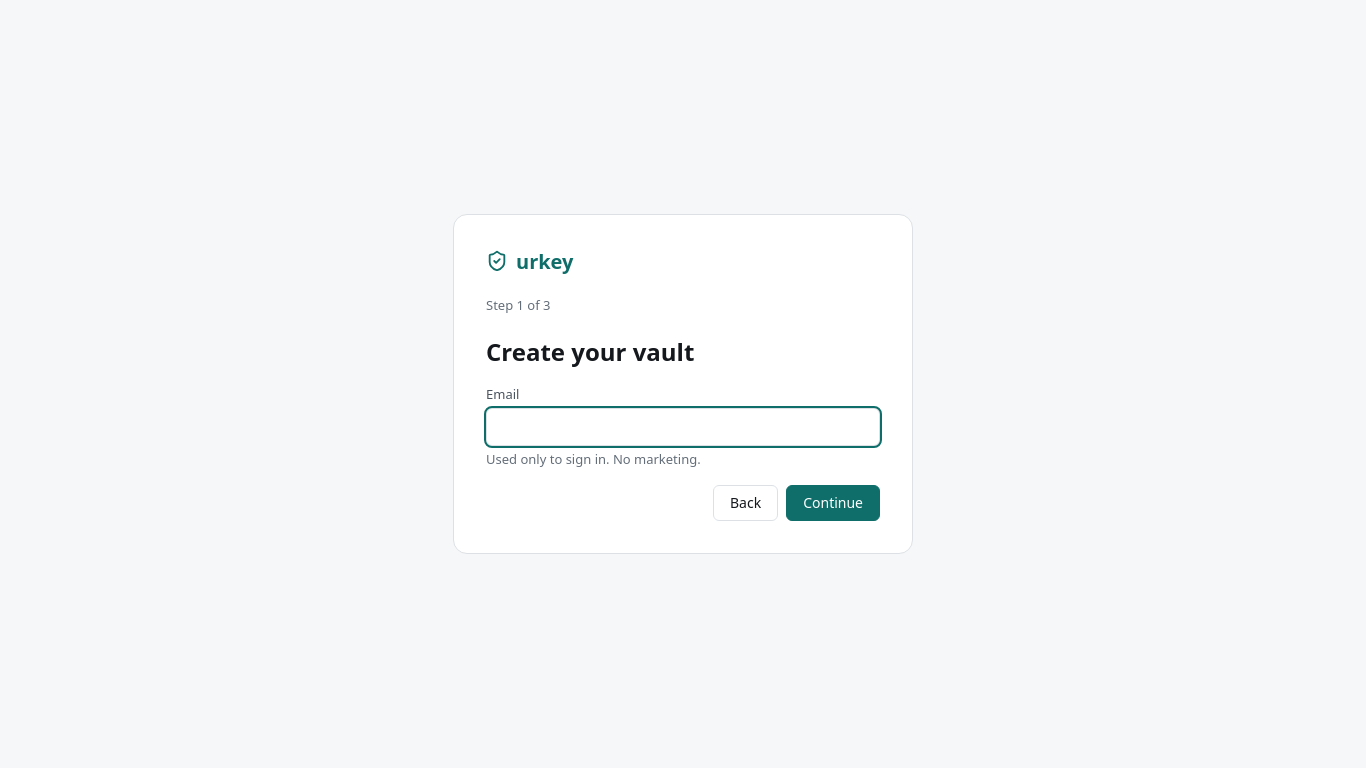
Test: onboarding › creates a vault and holds the Emergency Kit until confirmed
Earlier steps of the test are not shown.
Type "a@example.test" into the field labelled "Email" at (683, 427), box [486,408,880,446]
Click the button "Continue" at (833, 503), box [786,485,880,521]
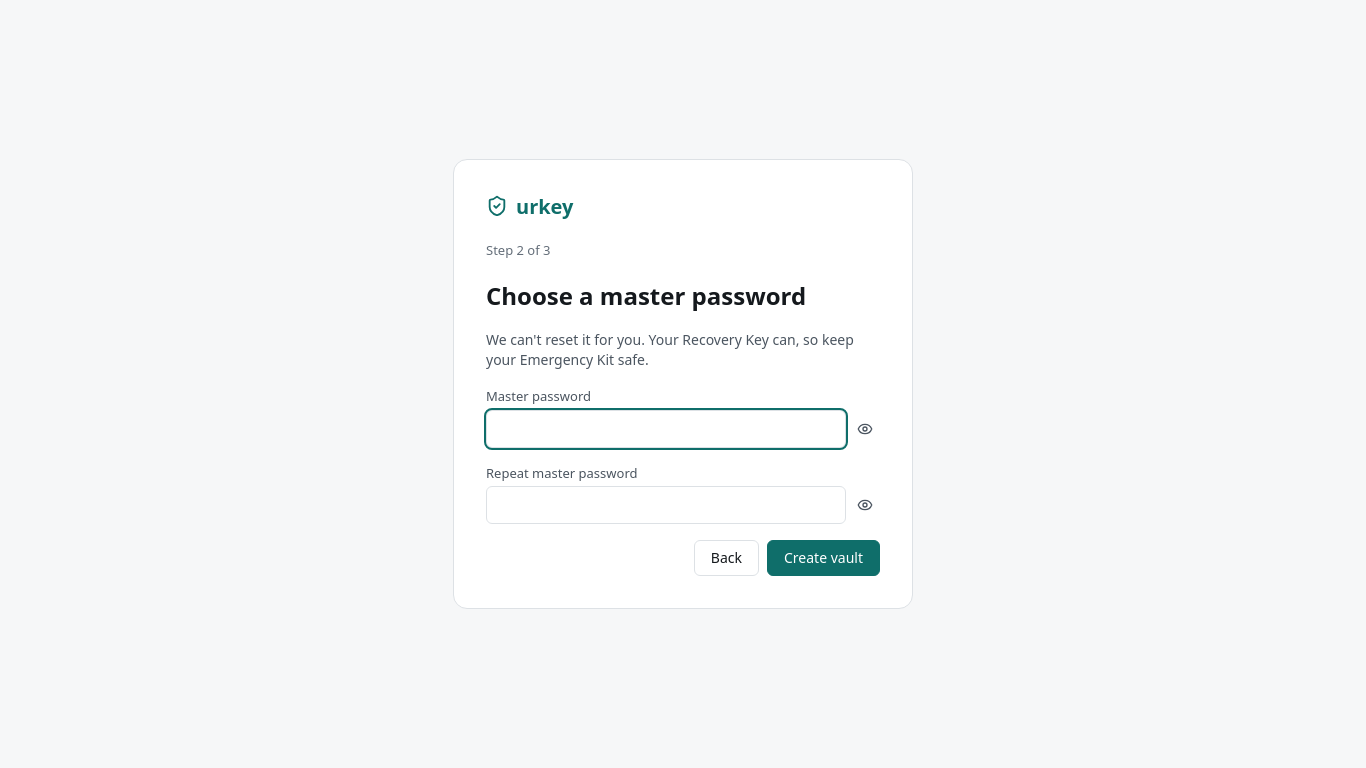
Type "correct horse battery" into the password field labelled "Master password" at (666, 429), box [486,410,846,448]
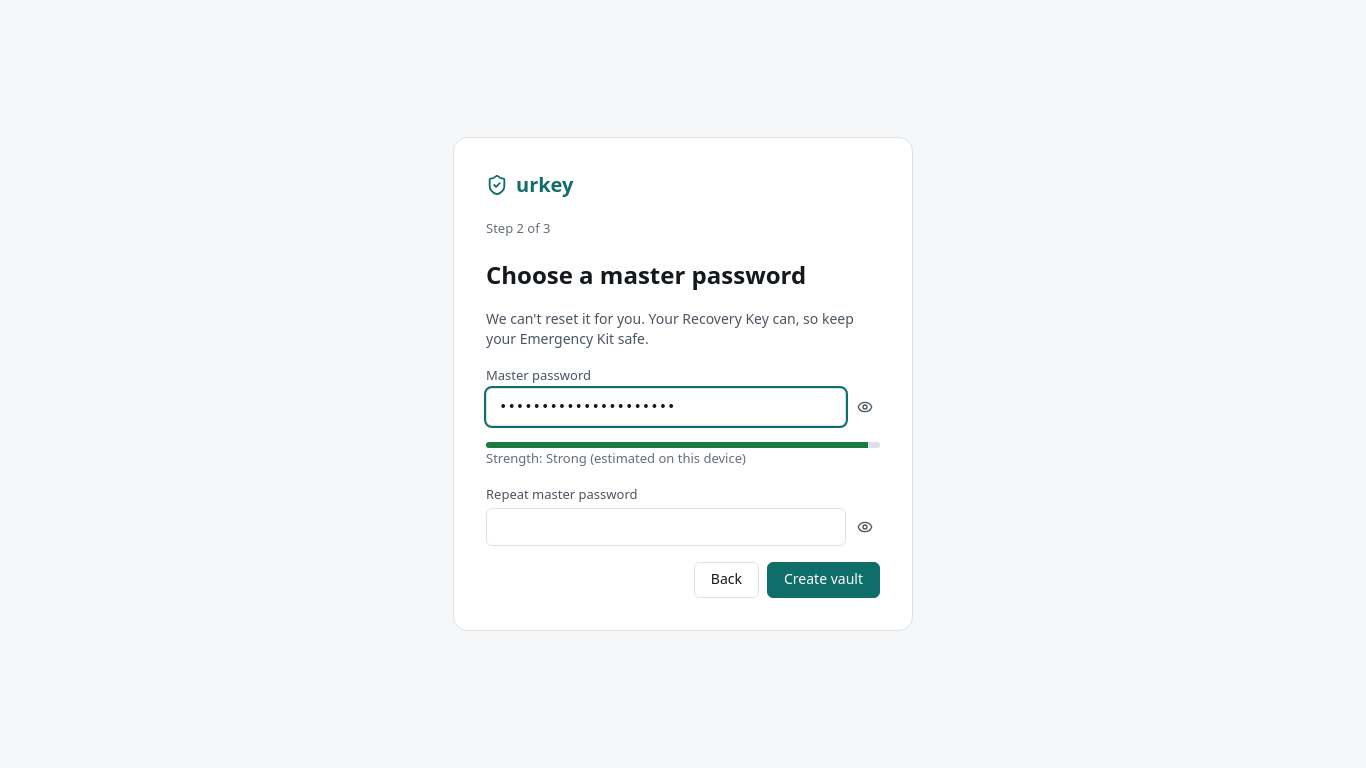
Type "correct horse battery" into the password field labelled "Repeat master password" at (666, 527), box [486,508,846,546]
Click the button "Create vault" at (824, 580), box [767,562,880,598]
(page scrolled)
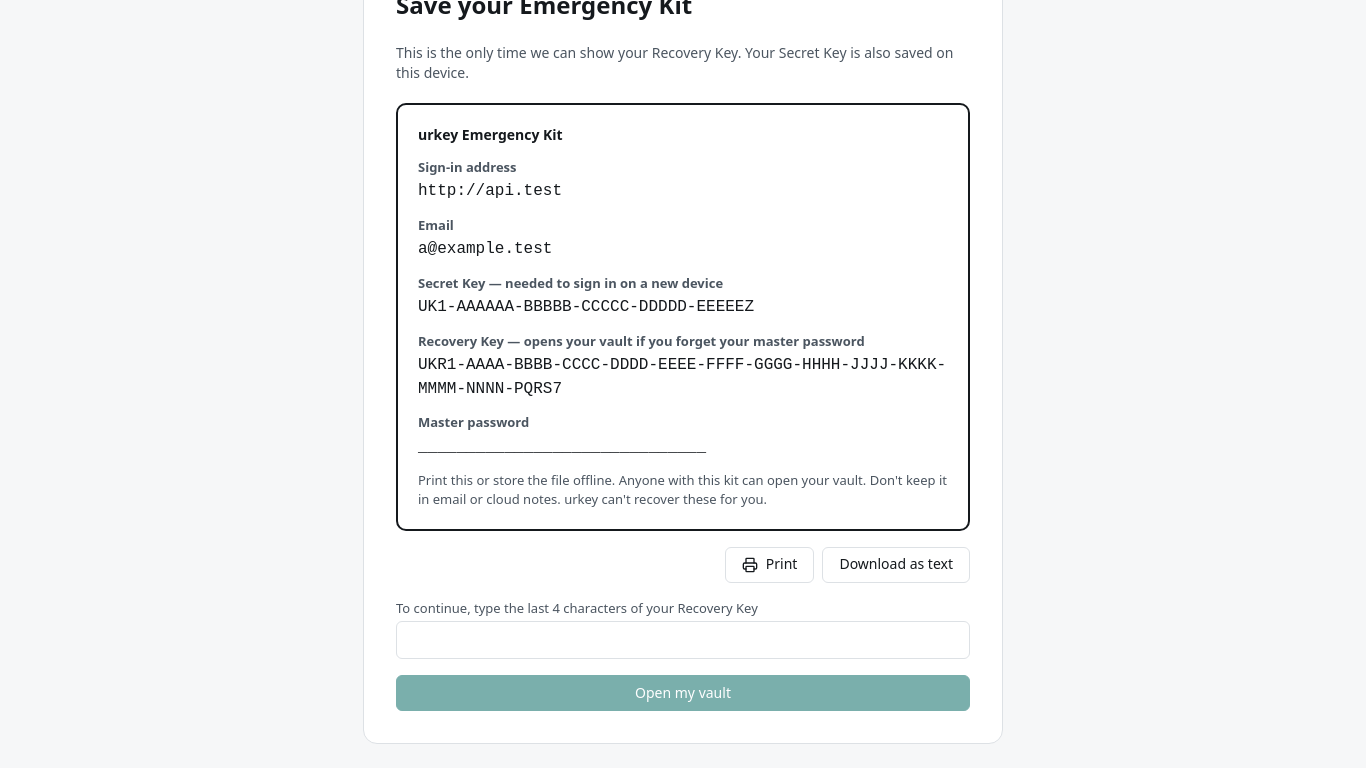
Expected: the text with test id "kit-recovery-key" shows "UKR1-", [418,356,946,398]
Expected: the button "Open my vault" is disabled, [396,675,970,711]
Type "PQRS" into the field labelled "To continue, type the last 4 characters of your Recovery Key" at (683, 640), box [396,621,970,659]
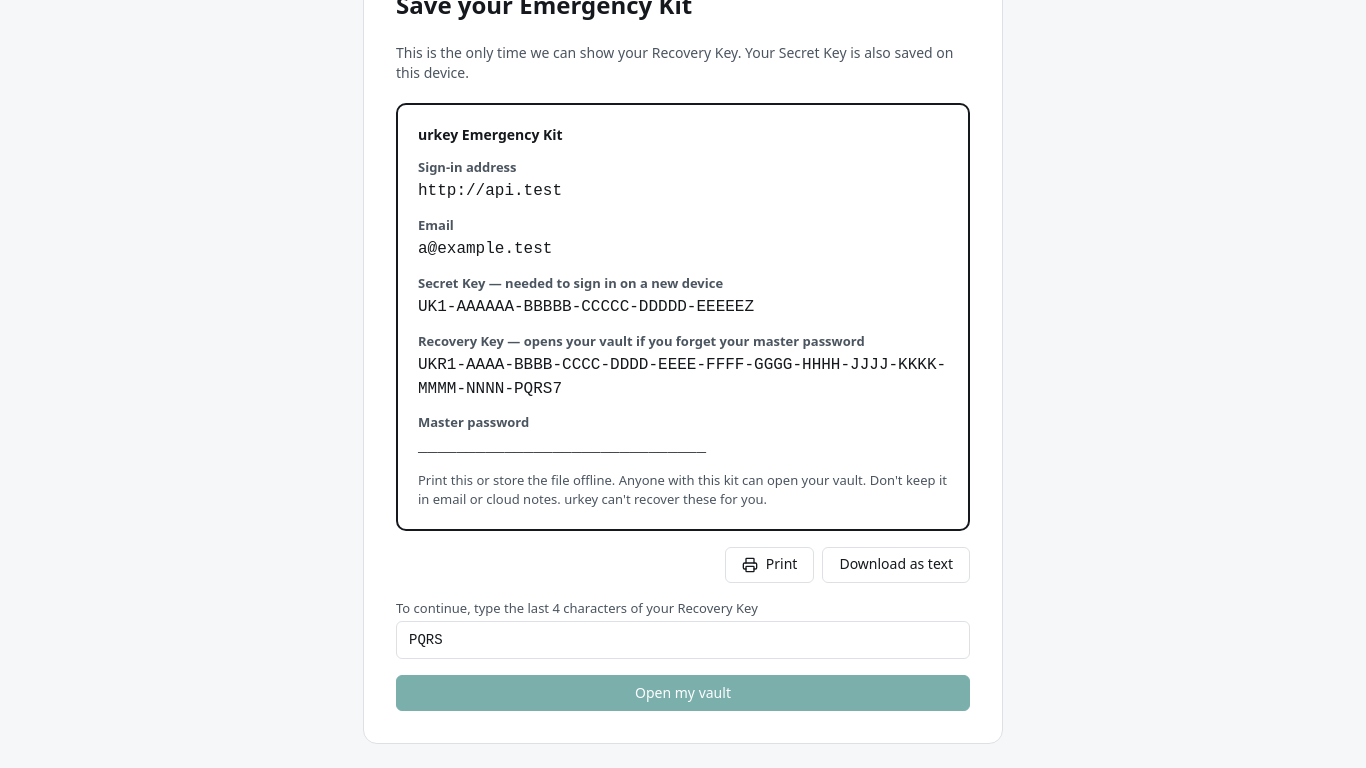
Expected: the button "Open my vault" is disabled, [396,675,970,711]
Replace the text in the field labelled "To continue, type the last 4 characters of your Recovery Key" with "qrs7" at (683, 640), box [396,621,970,659]
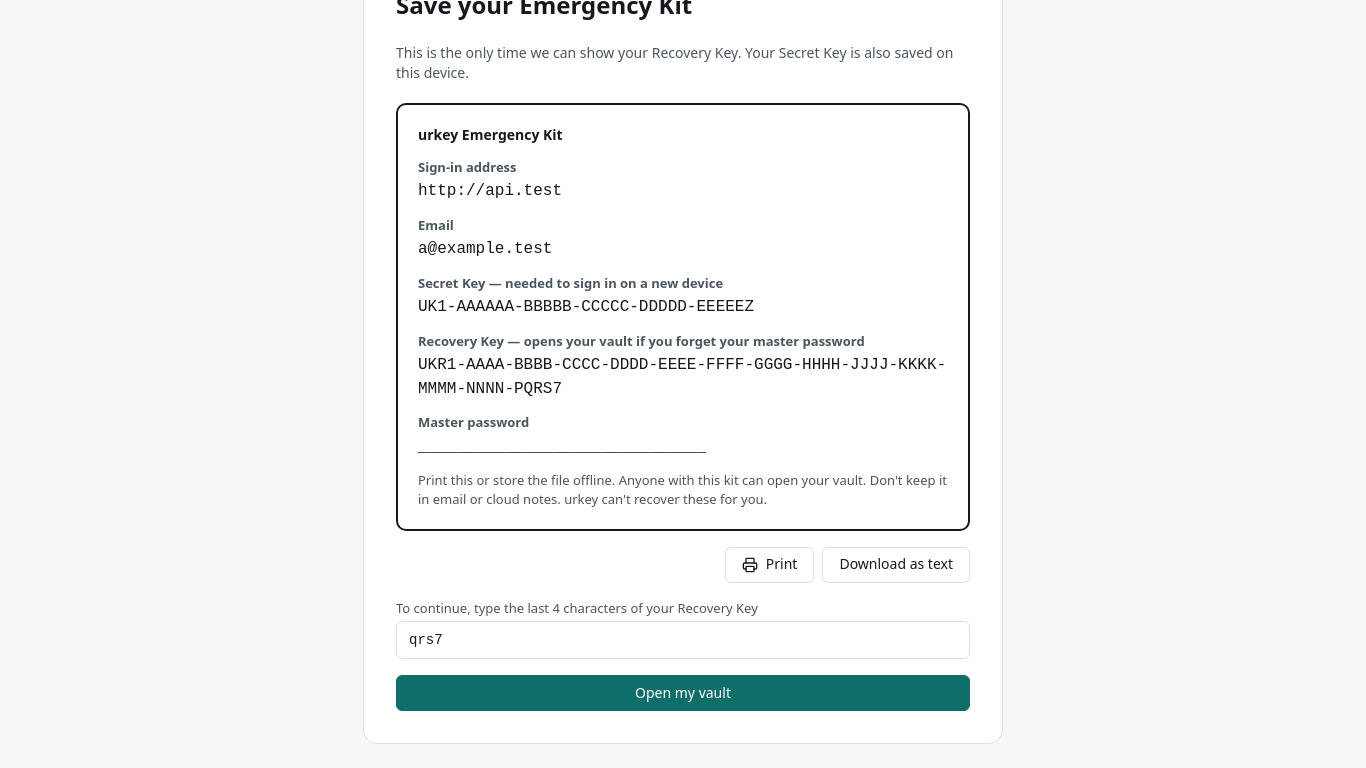
Click the button "Open my vault" at (683, 693), box [396,675,970,711]
(page scrolled)
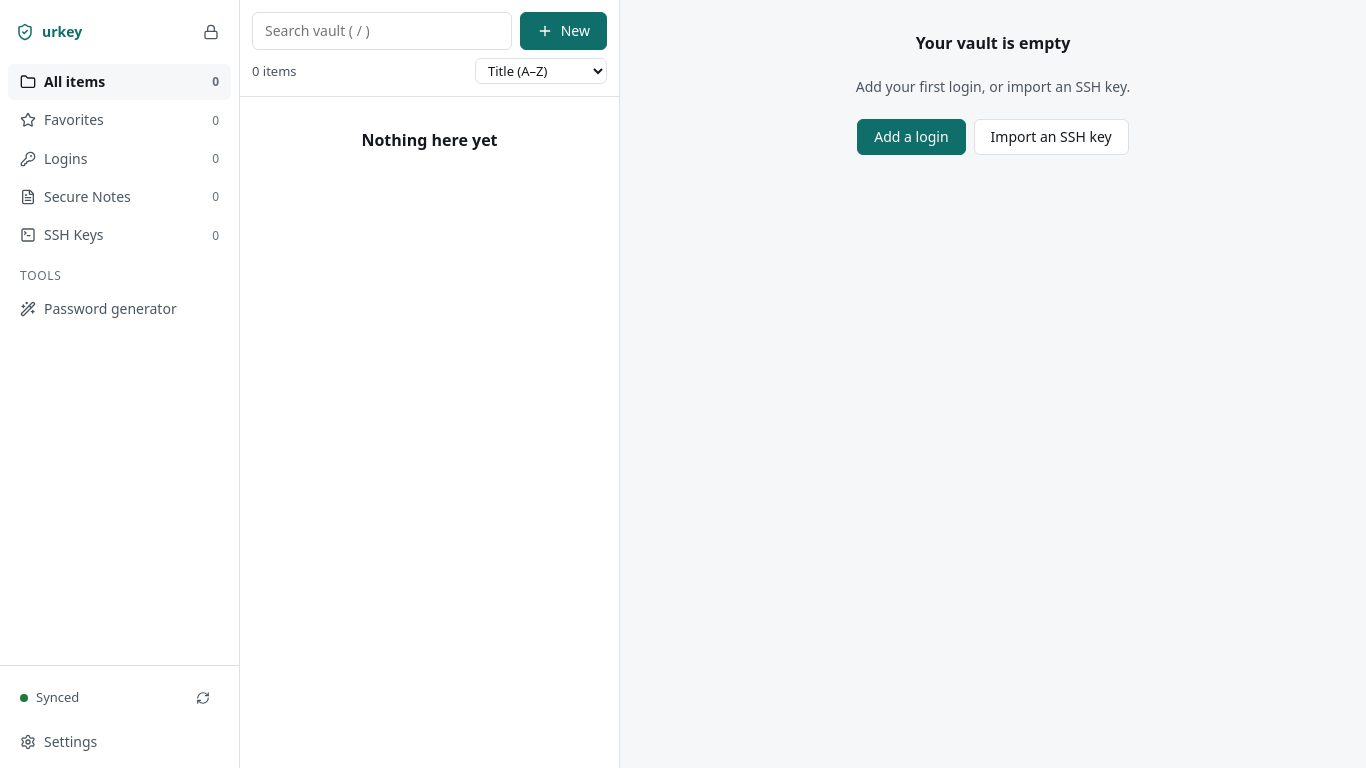
Expected: the heading "Your vault is empty" is shown, [916,32,1070,55]
